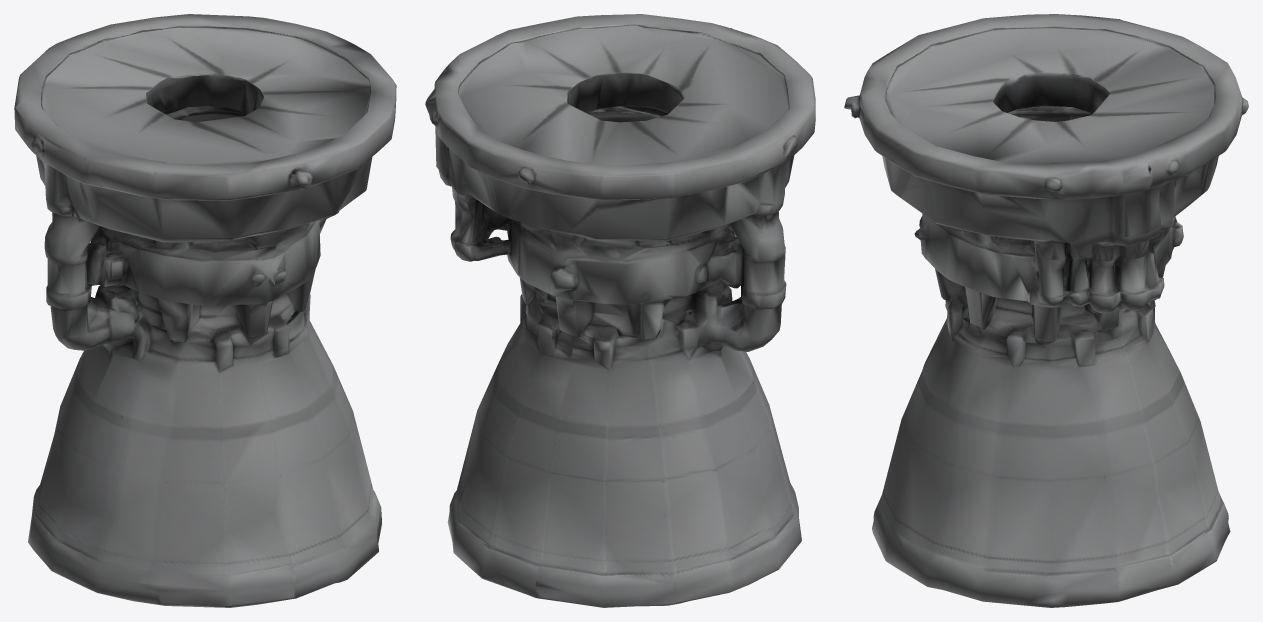
The model's file is Meshy_AI_Faceted_Rocket_Nozzle_0806092958_texture.fbx.
3 renders of one model, left to right at view 1: azimuth 30°, elevation 25°; view 2: azimuth 150°, elevation 25°; view 3: azimuth 270°, elevation 25°, orthographic.
Visible parts, largest first — view 1: Mesh_0; view 2: Mesh_0; view 3: Mesh_0.
Part boxes in pixels (left/top/right/bottom): Mesh_0: left=14, top=14, right=396, bottom=607; Mesh_0: left=425, top=14, right=815, bottom=607; Mesh_0: left=844, top=14, right=1248, bottom=607.
Bounding box in the file's own units: 160 × 200 × 166.
1 material, 1 textured.
